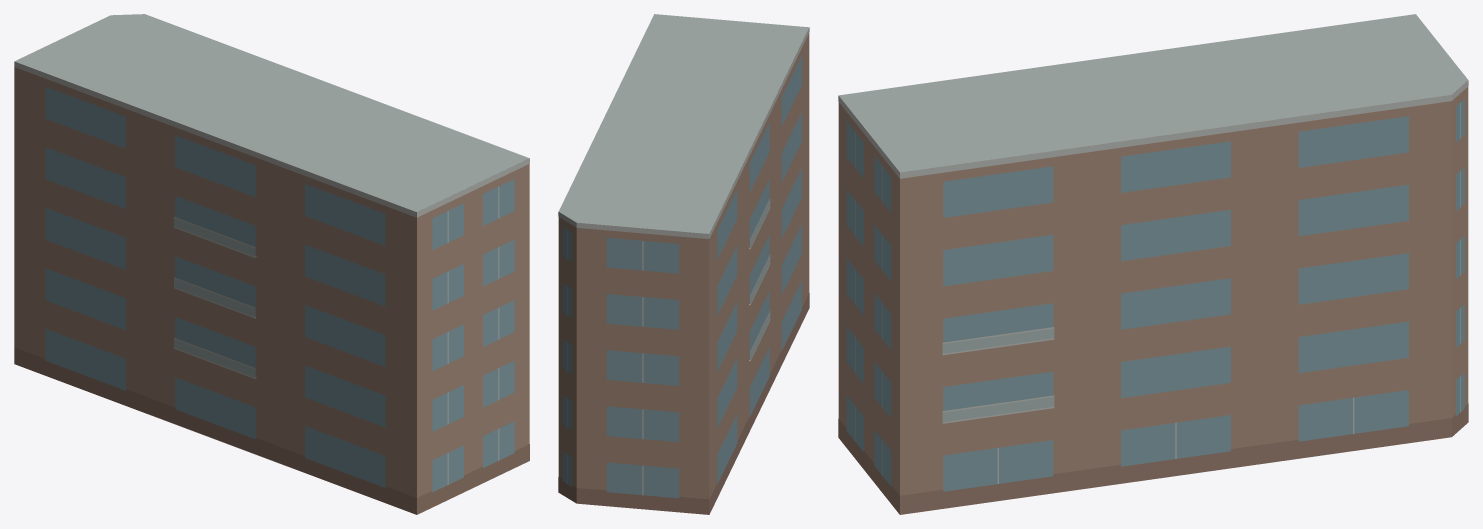
Rendered from survey-upis-32965017.glb.
3 renders of one model, left to right at view 1: azimuth 30°, elevation 25°; view 2: azimuth 150°, elevation 25°; view 3: azimuth 270°, elevation 25°, orthographic. The views are drawn at different scales.
Parts seen in each view (by area): view 1: survey-upis-32965017.tmp; view 2: survey-upis-32965017.tmp; view 3: survey-upis-32965017.tmp.
Part boxes in pixels (x1,y1,x2,y2): survey-upis-32965017.tmp: [14, 14, 529, 514]; survey-upis-32965017.tmp: [558, 14, 809, 514]; survey-upis-32965017.tmp: [838, 14, 1468, 514].
Bounding box in the file's own units: 13.43 × 13.5 × 22.53.
